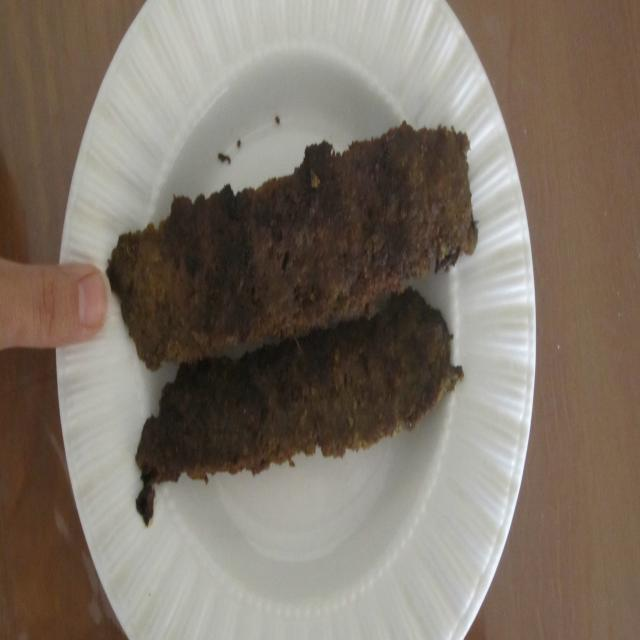cutlet: (107, 113, 520, 487)
